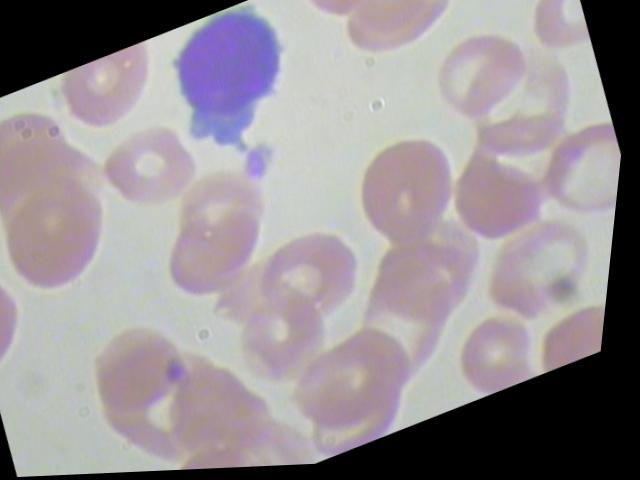Platelets: (234, 135, 293, 192)
Red Blood Cells: (279, 315, 442, 454), (335, 124, 484, 268), (472, 206, 620, 342), (251, 216, 387, 343), (80, 310, 208, 429), (422, 19, 545, 136), (91, 114, 214, 229), (48, 42, 172, 151), (528, 116, 628, 241), (449, 309, 559, 409), (535, 296, 613, 379), (515, 0, 599, 71), (431, 0, 569, 12)
White Blood Cells: (142, 0, 336, 179)
